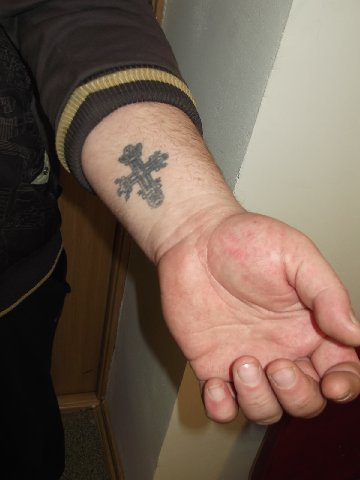tatu9_krest: (101, 140, 183, 212)
